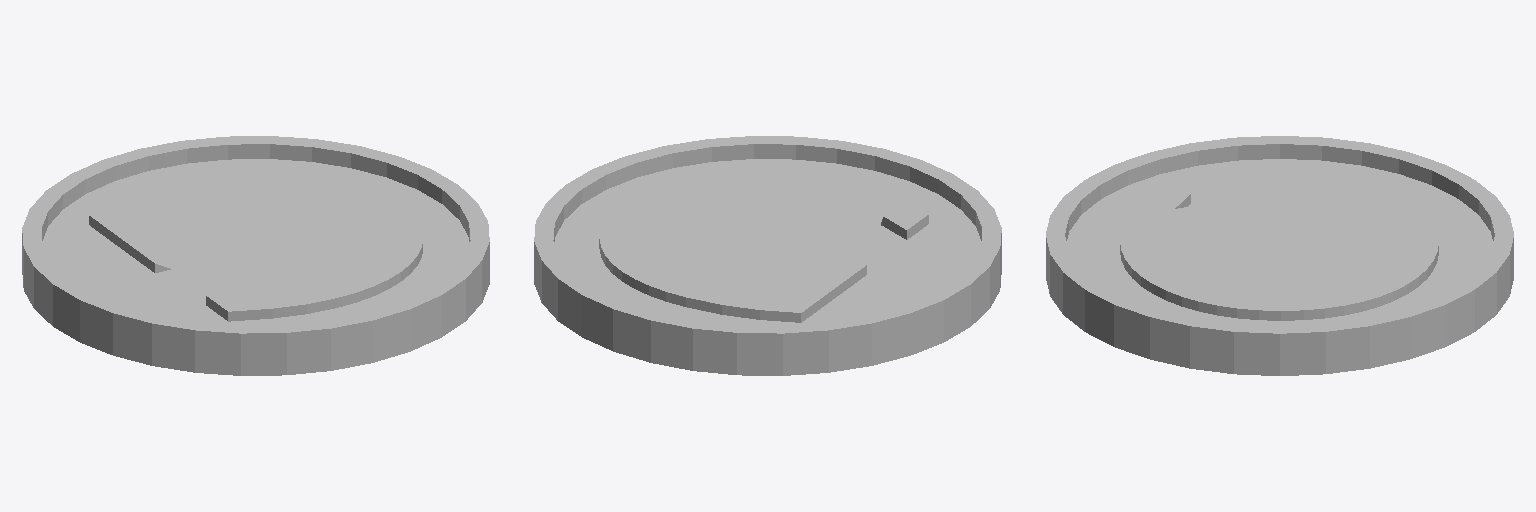
Rendered from mycoin.obj.
The picture shows the model from 3 angles: view 1: azimuth 30°, elevation 25°; view 2: azimuth 150°, elevation 25°; view 3: azimuth 270°, elevation 25°; orthographic projection.
Visible parts, largest first — view 1: Cylinder; view 2: Cylinder; view 3: Cylinder.
Part boxes in pixels (x1,y1,x2,y2): Cylinder: (22,136,489,375); Cylinder: (534,136,1001,375); Cylinder: (1046,136,1513,375).
Size of the model in its own units: 1 by 0.1 by 1.